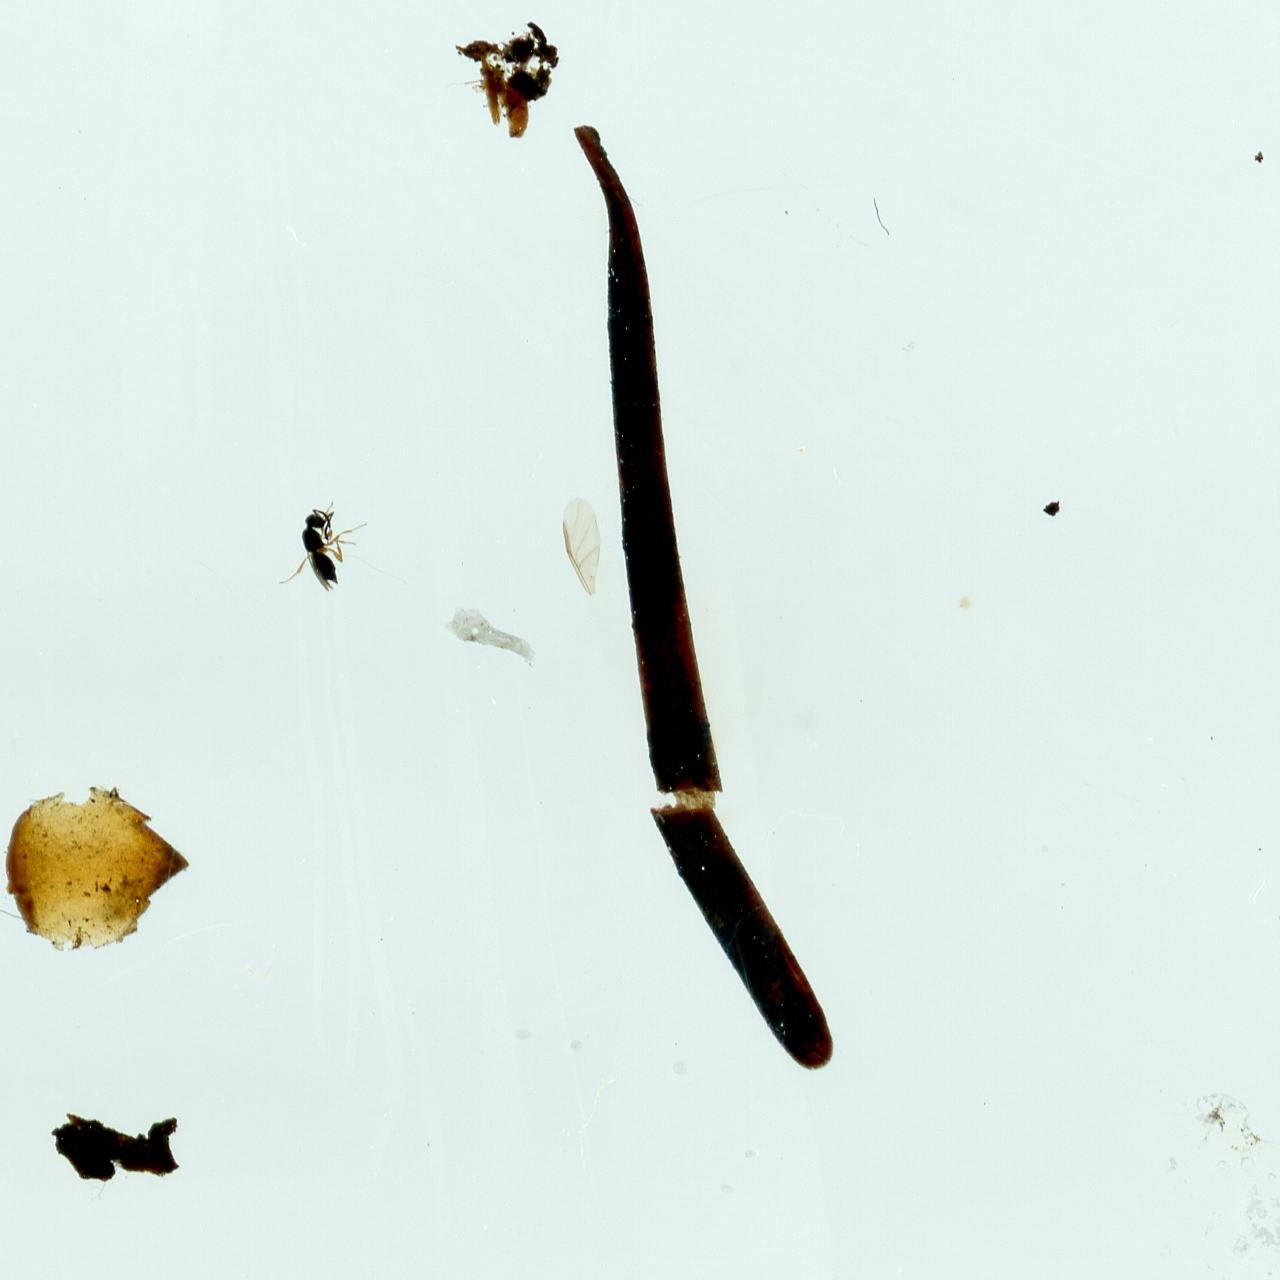arthropod: (275, 499, 371, 595)
